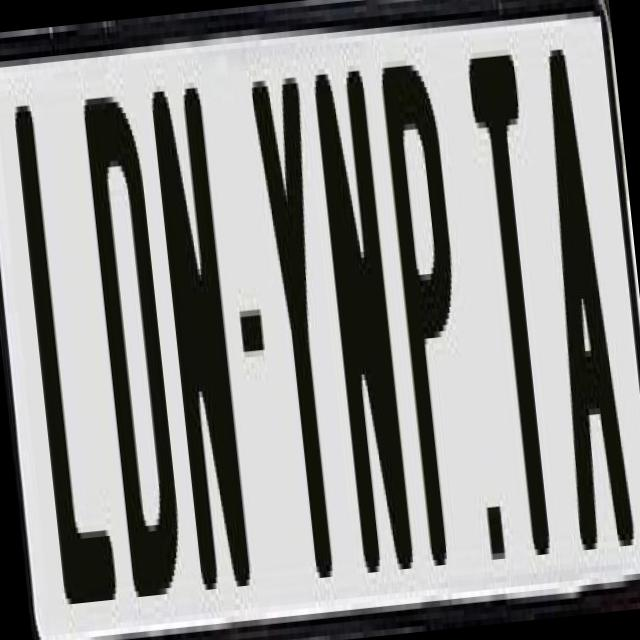A: (527, 41, 637, 562)
D: (78, 93, 192, 632)
L: (11, 89, 126, 610)
N: (146, 81, 252, 620), (308, 59, 412, 585)
P: (376, 45, 488, 584)
T: (464, 41, 571, 562)
Y: (246, 60, 345, 562)
